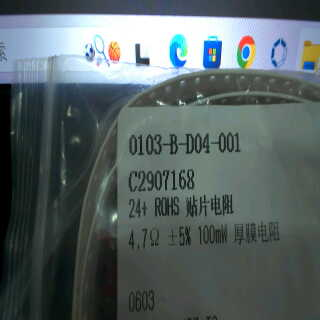4.7R: (123, 223, 164, 254)
